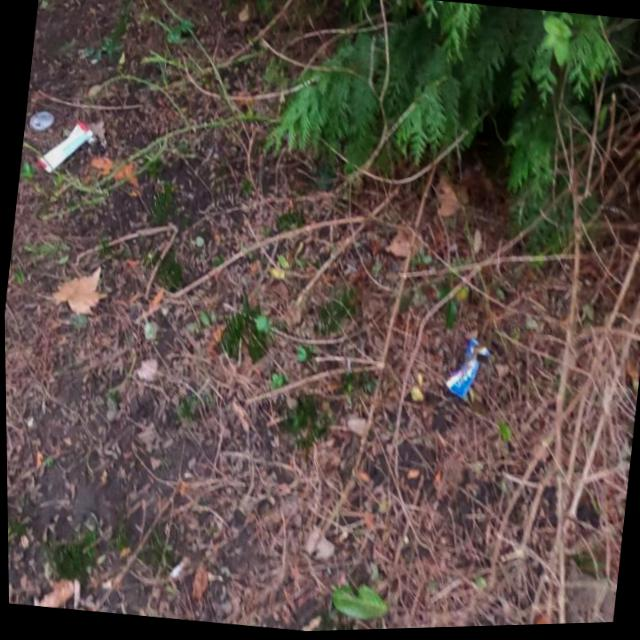Plastic: (32, 112, 95, 178), (439, 335, 490, 405)
